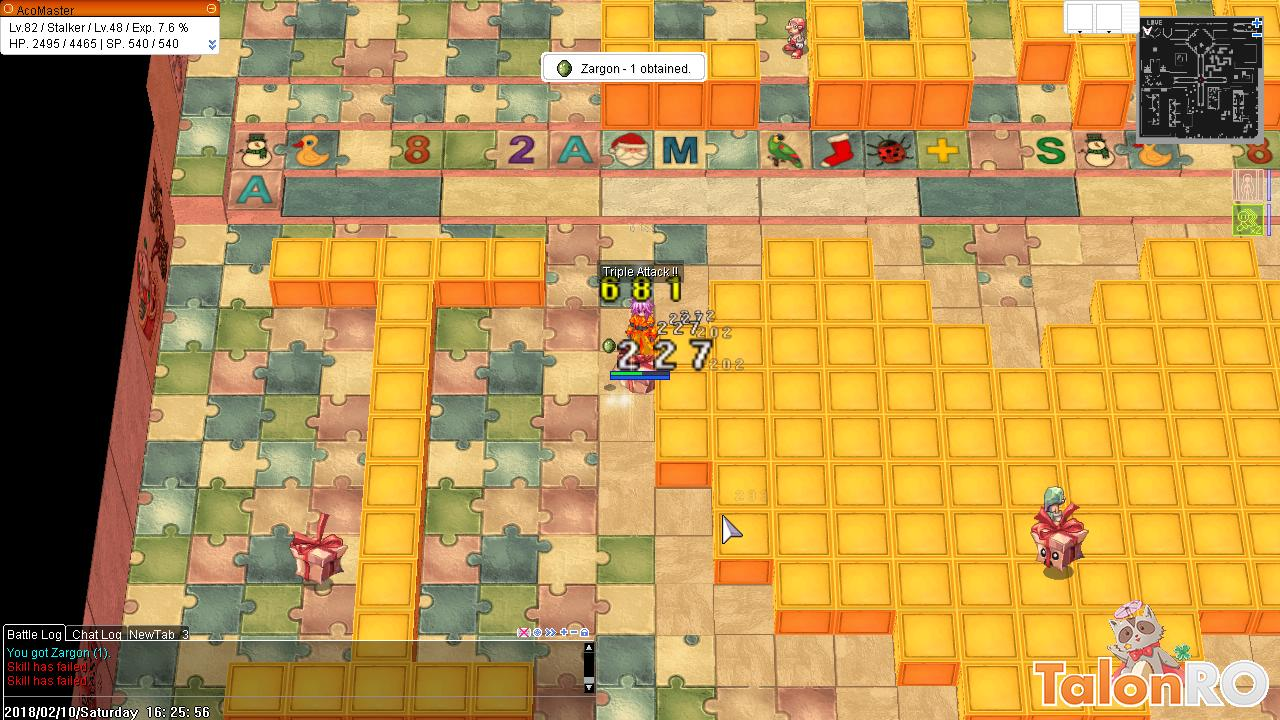loot: (598, 333, 621, 356)
myst_case: (1027, 504, 1094, 576), (289, 507, 348, 588), (615, 358, 665, 399)
